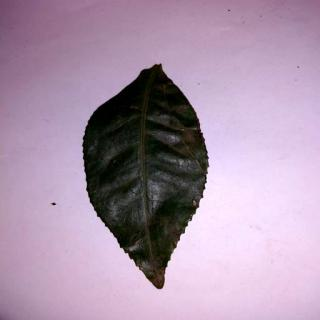Bird Eye Spot: (83, 65, 211, 292)
